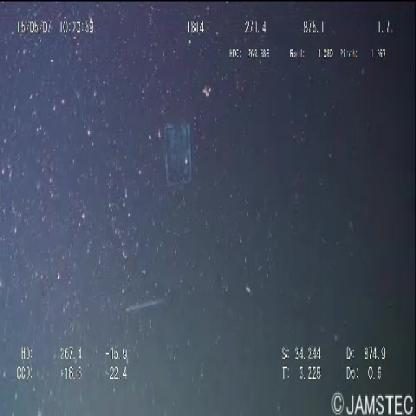Rác: (160, 115, 198, 198)
